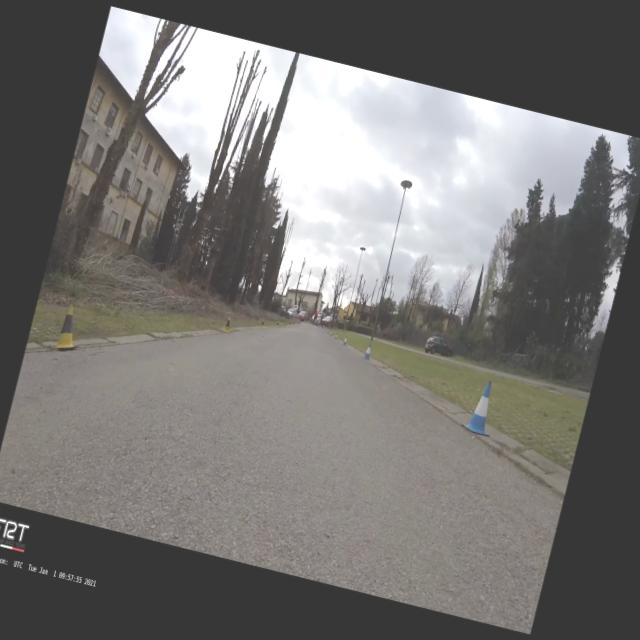blue_cone: (460, 376, 502, 436), (362, 341, 374, 360), (342, 334, 348, 346), (334, 332, 338, 339)
yellow_cone: (52, 302, 88, 354), (222, 315, 234, 333), (259, 318, 266, 328), (276, 320, 280, 327), (284, 321, 286, 326)
